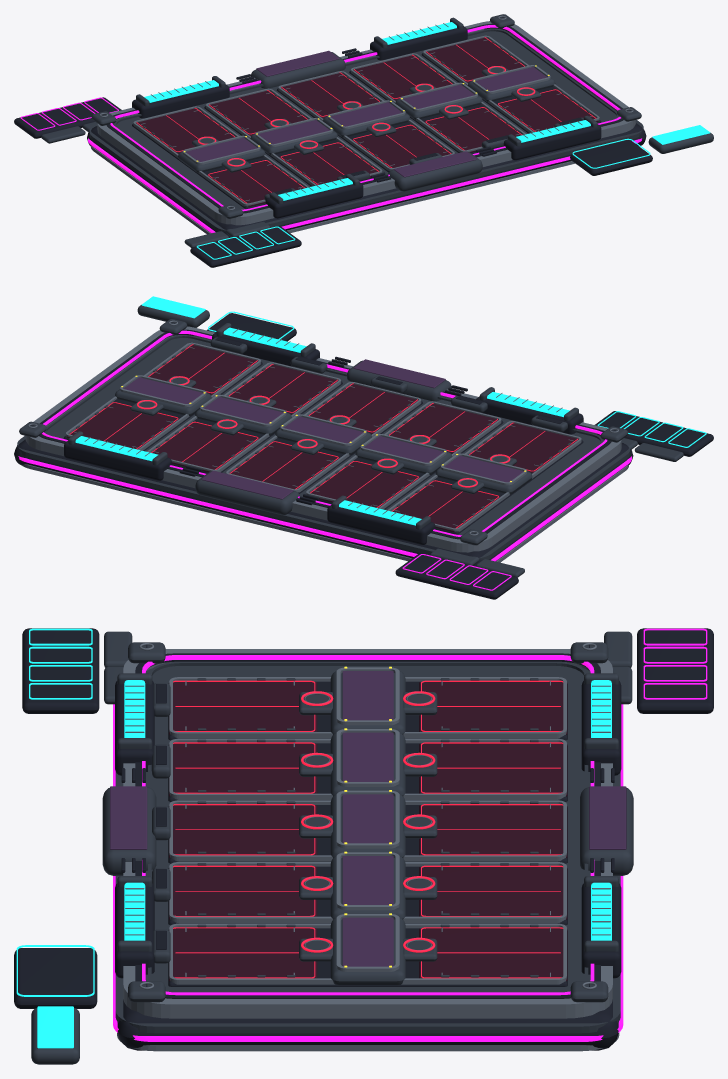
File: ouroboros-board.glb
3 renders of one model, top to bottom at view 1: azimuth 30°, elevation 25°; view 2: azimuth 150°, elevation 25°; view 3: azimuth 270°, elevation 25°, orthographic. The views are drawn at different scales.
Visible parts, largest first — view 1: Table_wine-black_field_glass, Table_graphite_titanium, Table_obsidian_polymer, Table_milled_gunmetal, Table_Location_smoked_violet, Table_magenta_inlay, Table_cyan_Data_Center_core, Table_restrained_red_traces; view 2: Table_wine-black_field_glass, Table_graphite_titanium, Table_obsidian_polymer, Table_milled_gunmetal, Table_Location_smoked_violet, Table_magenta_inlay, Table_cyan_Data_Center_core, Table_restrained_red_traces; view 3: Table_wine-black_field_glass, Table_graphite_titanium, Table_obsidian_polymer, Table_milled_gunmetal, Table_Location_smoked_violet, Table_magenta_inlay, Table_restrained_red_traces, Table_cyan_Data_Center_core.
Part boxes in pixels (bbox=[...]): Table_wine-black_field_glass: bbox=[136, 37, 598, 206]; Table_graphite_titanium: bbox=[41, 14, 713, 247]; Table_obsidian_polymer: bbox=[14, 17, 652, 267]; Table_milled_gunmetal: bbox=[90, 15, 639, 234]; Table_Location_smoked_violet: bbox=[186, 50, 547, 177]; Table_magenta_inlay: bbox=[20, 25, 641, 233]; Table_cyan_Data_Center_core: bbox=[144, 22, 710, 259]; Table_restrained_red_traces: bbox=[136, 37, 596, 203]; Table_wine-black_field_glass: bbox=[67, 345, 578, 531]; Table_graphite_titanium: bbox=[17, 305, 683, 577]; Table_obsidian_polymer: bbox=[14, 313, 713, 599]; Table_milled_gunmetal: bbox=[21, 320, 628, 562]; Table_Location_smoked_violet: bbox=[123, 359, 523, 499]; Table_magenta_inlay: bbox=[18, 330, 631, 590]; Table_cyan_Data_Center_core: bbox=[75, 296, 706, 525]; Table_restrained_red_traces: bbox=[69, 344, 578, 528]; Table_wine-black_field_glass: bbox=[169, 681, 567, 981]; Table_graphite_titanium: bbox=[31, 631, 633, 1064]; Table_obsidian_polymer: bbox=[14, 628, 713, 1050]; Table_milled_gunmetal: bbox=[117, 643, 619, 1051]; Table_Location_smoked_violet: bbox=[110, 671, 626, 966]; Table_magenta_inlay: bbox=[113, 628, 707, 1041]; Table_restrained_red_traces: bbox=[173, 680, 563, 978]; Table_cyan_Data_Center_core: bbox=[16, 628, 611, 1048].
Bounding box in the file's own units: 19.6 × 1.47 × 13.44.
